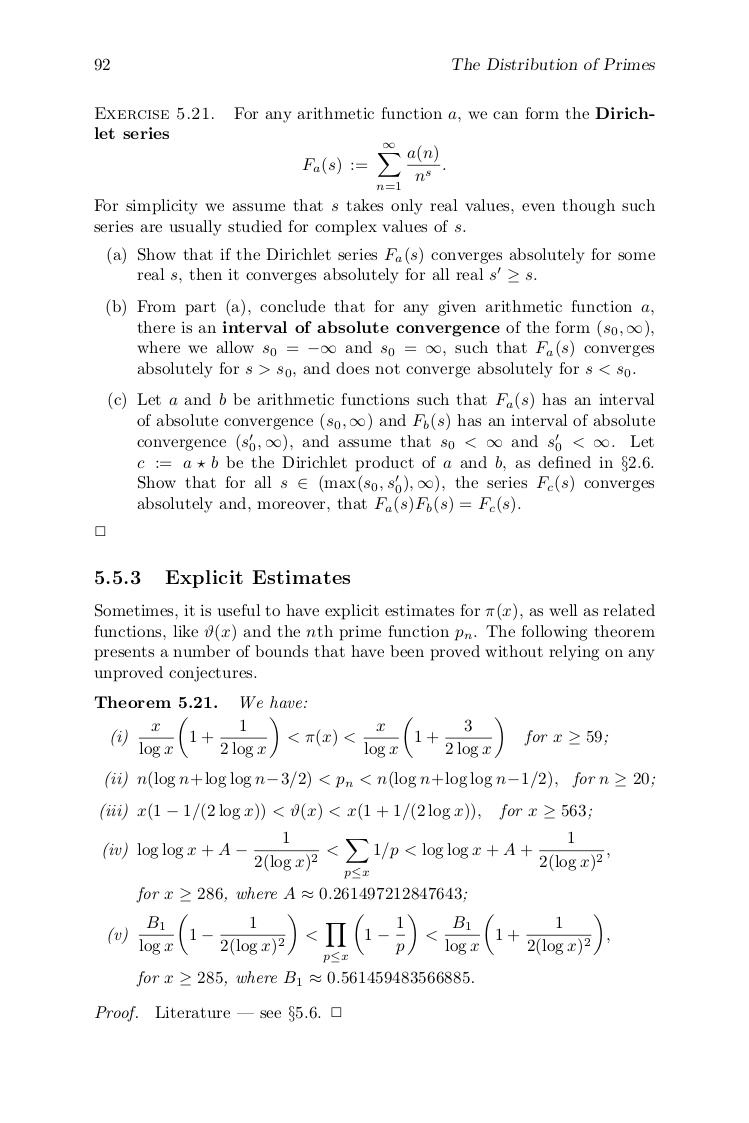formula: (108, 912, 609, 963), (103, 830, 609, 879), (111, 716, 608, 758), (105, 770, 655, 789), (100, 802, 592, 821), (302, 142, 445, 189)
